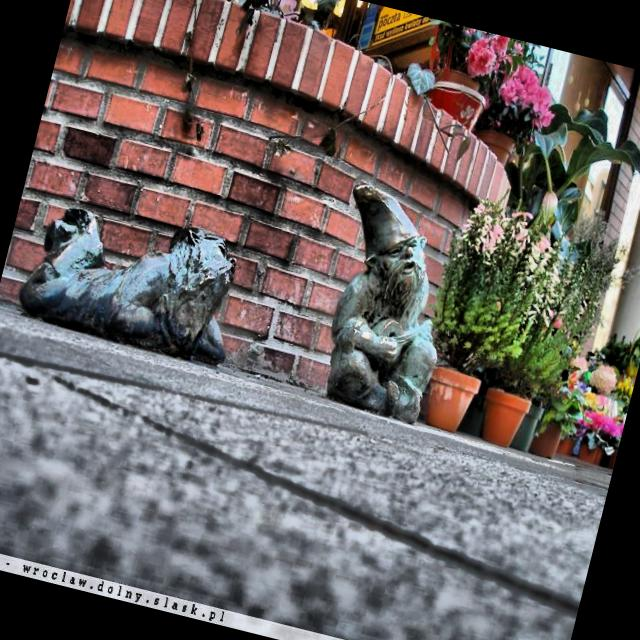Grajek_i_Meloman: (18, 208, 235, 368), (324, 185, 437, 425)
